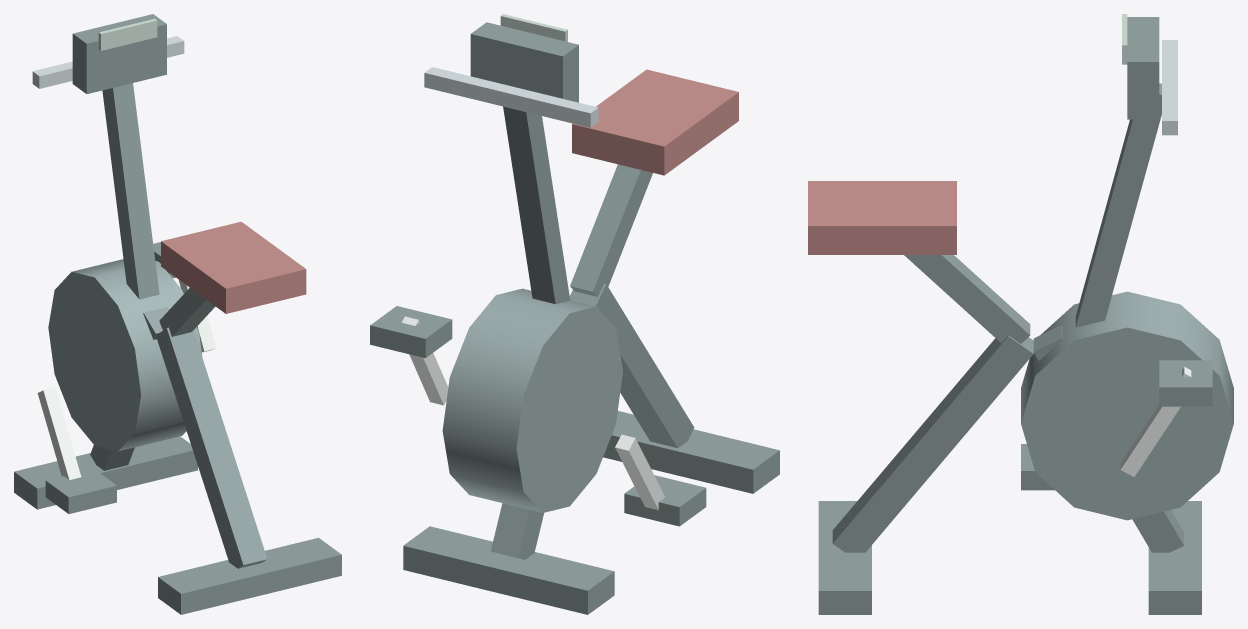
Rendered from exerciseBike.glb.
3 renders of one model, left to right at view 1: azimuth 30°, elevation 25°; view 2: azimuth 150°, elevation 25°; view 3: azimuth 270°, elevation 25°, orthographic. The views are drawn at different scales.
Visible parts, largest first — view 1: exerciseBike; view 2: exerciseBike; view 3: exerciseBike.
Boxes of the visible parts, x1=… form: exerciseBike: x1=14, y1=14, x2=341, y2=614; exerciseBike: x1=370, y1=14, x2=779, y2=614; exerciseBike: x1=808, y1=14, x2=1233, y2=614.
Bounding box in the file's own units: 0.26 × 0.56 × 0.4.
